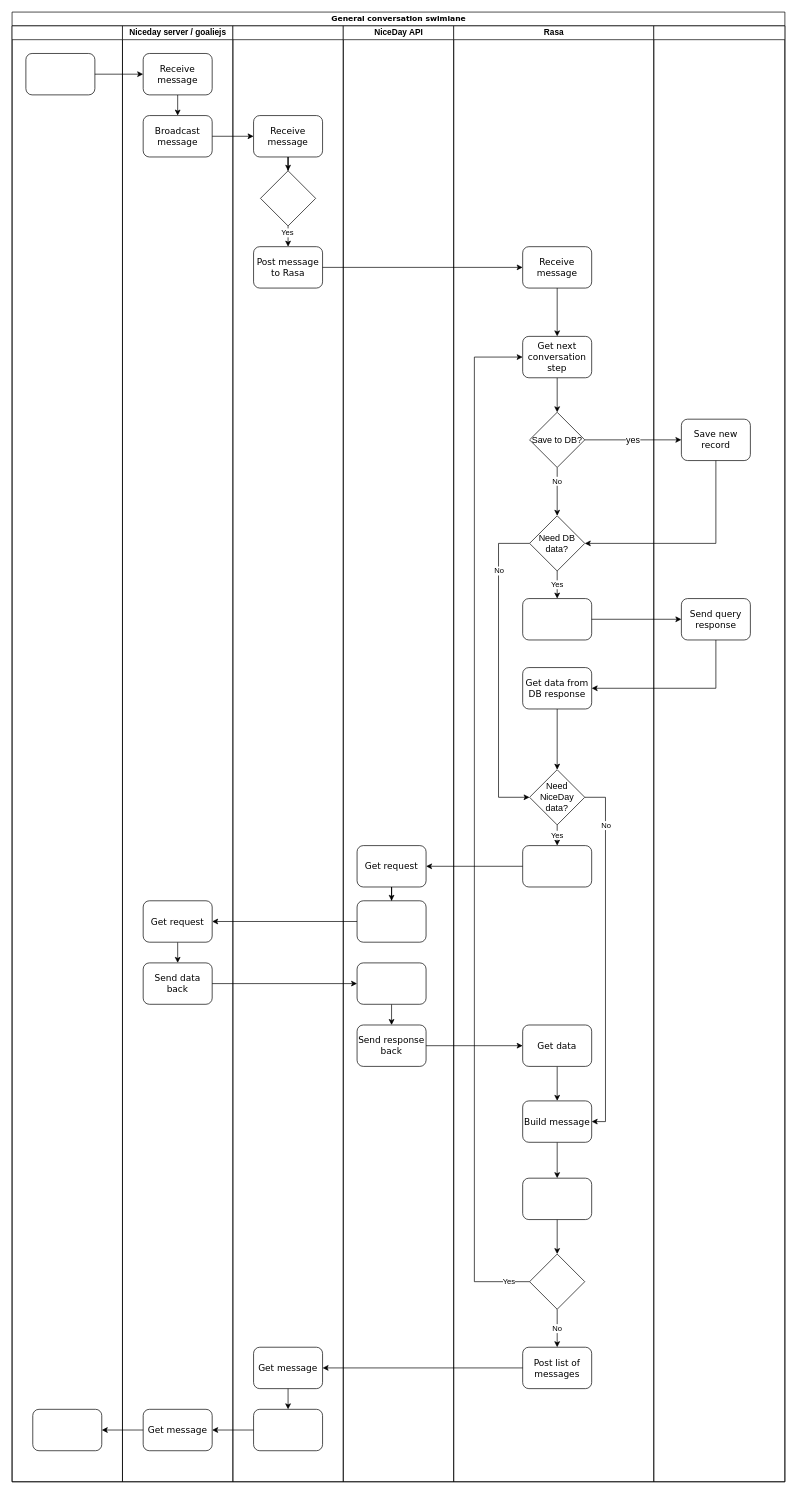
This 797x1494 diagram has some shape labels left out. Here are the shapes that lost their labels. From the top down, the box of each, then its label:
(25, 53, 95, 95): Send message
(260, 170, 316, 226): Therapist receiver?
(522, 598, 592, 640): Query DB
(11, 25, 122, 1482): NiceDay app
(232, 25, 343, 1482): NiceDay Broker
(653, 25, 785, 1482): Database
(522, 845, 592, 887): Request data
(356, 900, 426, 942): Post data request
(356, 962, 426, 1004): Get response
(522, 1177, 592, 1220): Add message to the list
(529, 1253, 585, 1309): New message to be added?
(32, 1409, 102, 1451): Show therapist response
(253, 1409, 323, 1451): Post to server
